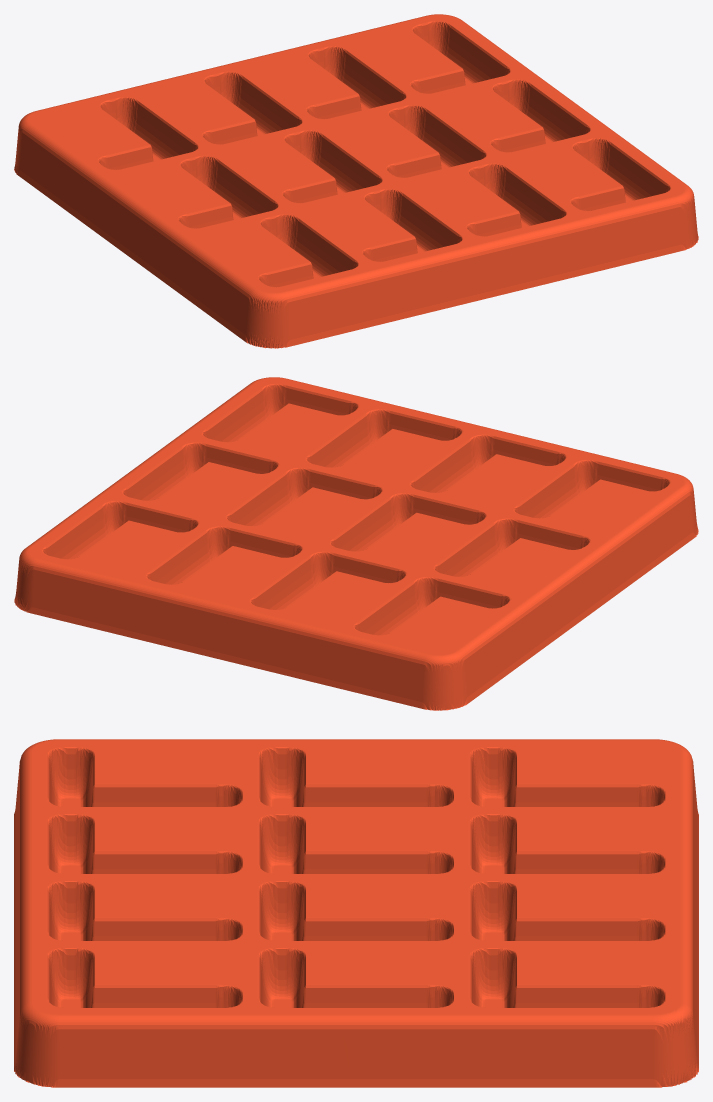
The model's file is mold.glb.
3 views of the same model, one above another, from view 1: azimuth 30°, elevation 25°; view 2: azimuth 150°, elevation 25°; view 3: azimuth 270°, elevation 25° (orthographic). The views are drawn at different scales.
Visible parts, largest first — view 1: geometry_0; view 2: geometry_0; view 3: geometry_0.
Part boxes in pixels (<box>): geometry_0: <box>14,14,698,348</box>; geometry_0: <box>14,377,698,710</box>; geometry_0: <box>14,739,698,1087</box>.
Size of the model in its own units: 0.1374 by 0.0145 by 0.1374.
